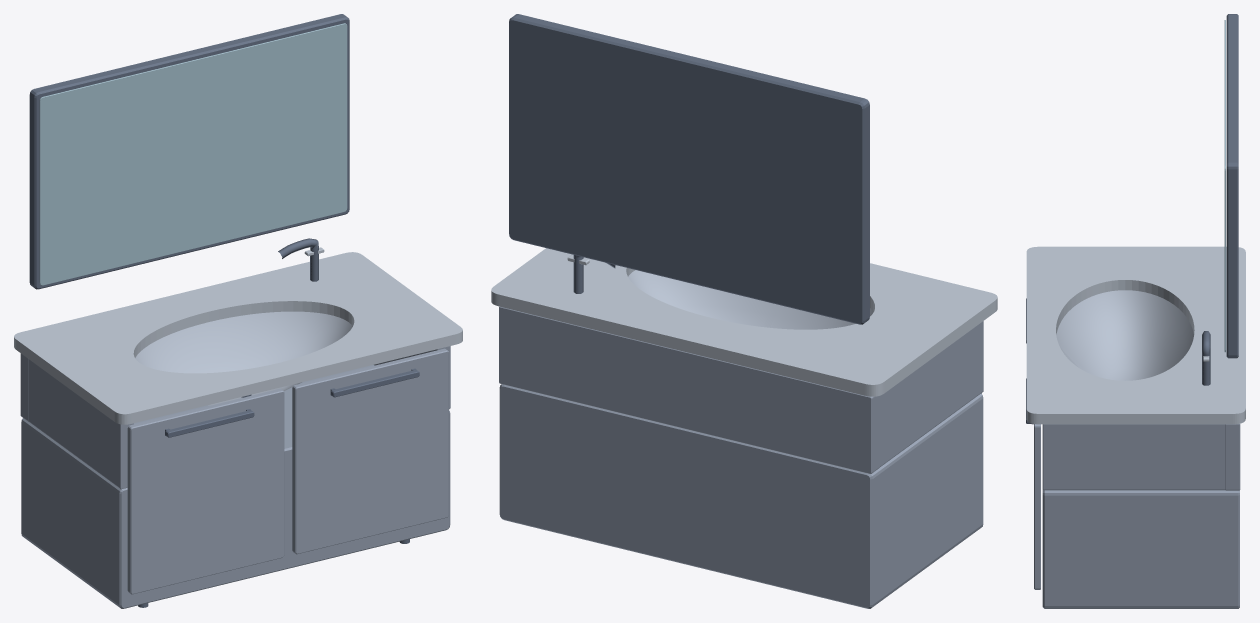
The model's file is basin.glb.
3 renders of one model, left to right at view 1: azimuth 30°, elevation 25°; view 2: azimuth 150°, elevation 25°; view 3: azimuth 270°, elevation 25°, orthographic. The views are drawn at different scales.
Visible parts, largest first — view 1: glass, accent, light, body, dark, soft; view 2: body, dark, light, soft; view 3: body, light, soft, dark, accent, glass.
Part boxes in pixels (box(x1,y1,x2,y2)): glass: box(39, 23, 347, 285); accent: box(127, 348, 448, 594); light: box(14, 247, 462, 424); body: box(20, 346, 450, 608); dark: box(29, 14, 419, 607); soft: box(135, 311, 352, 405); body: box(499, 306, 983, 608); dark: box(509, 14, 869, 324); light: box(491, 248, 997, 396); soft: box(628, 270, 873, 329); body: box(1042, 423, 1240, 608); light: box(1026, 246, 1245, 424); soft: box(1056, 290, 1193, 380); dark: box(1026, 14, 1238, 424); accent: box(1034, 424, 1040, 589); glass: box(1224, 20, 1225, 352).
Bounding box in the file's own units: 0.9 × 1.14 × 0.5.
